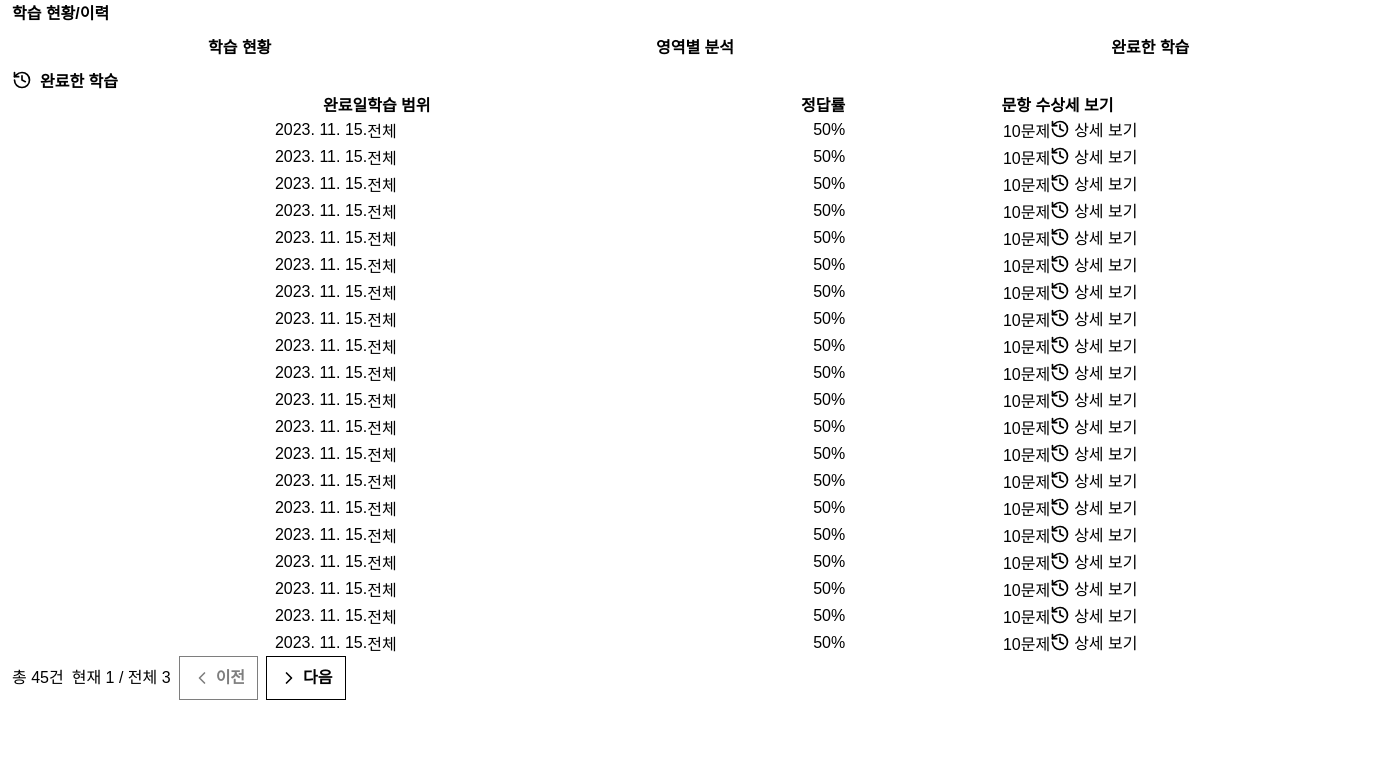
이력 페이지네이션 핵심 동작 (AC 1, AC 4) › 45건에서 다음 클릭 시 서버 요청 page 2와 URL page=2가 일치한다
Expected: the text "총 45건" is shown, [12, 667, 64, 689]
Expected: the text "현재 1 / 전체 3" is shown, [72, 667, 171, 689]
Click the button "다음" at (306, 678), box [266, 656, 346, 700]
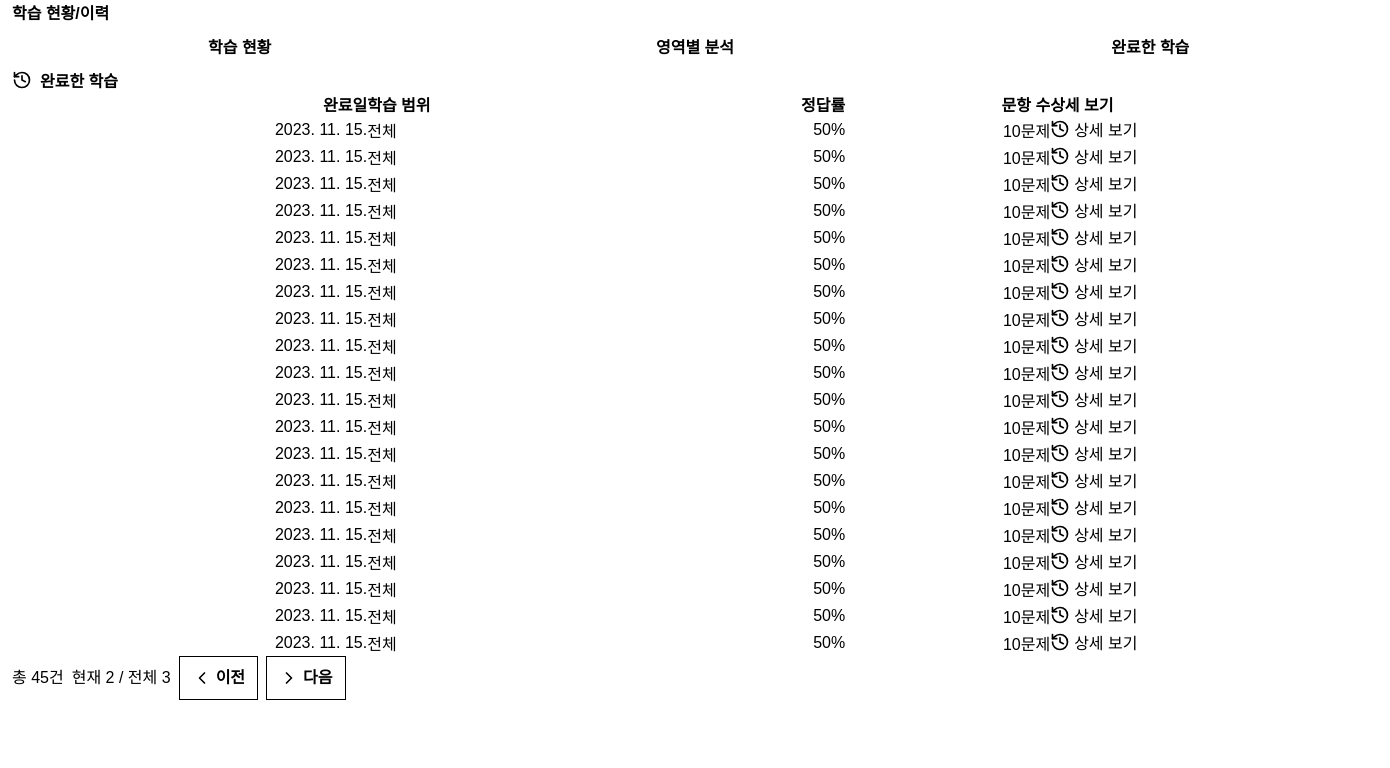
Expected: the text "현재 2 / 전체 3" is shown, [72, 667, 171, 689]
